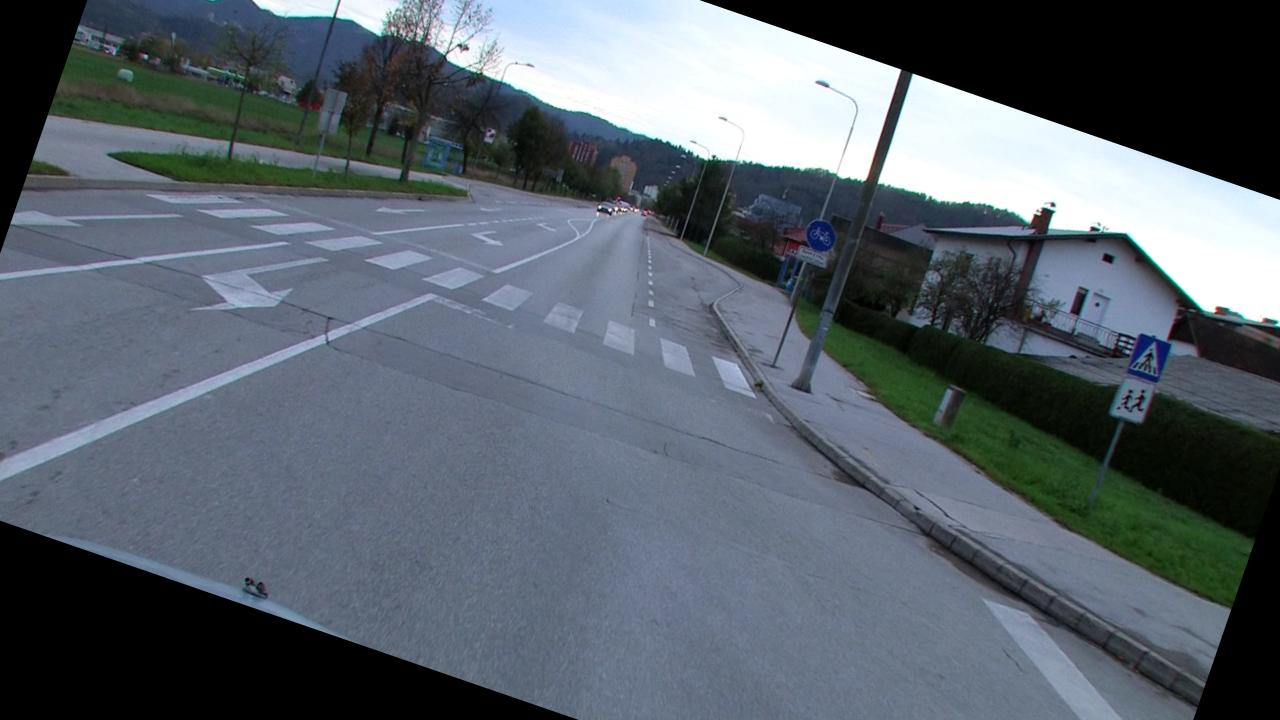Rectangle: (1108, 373, 1157, 428)
Round: (802, 213, 842, 256), (796, 244, 830, 268)
Squared: (1124, 332, 1171, 382)
